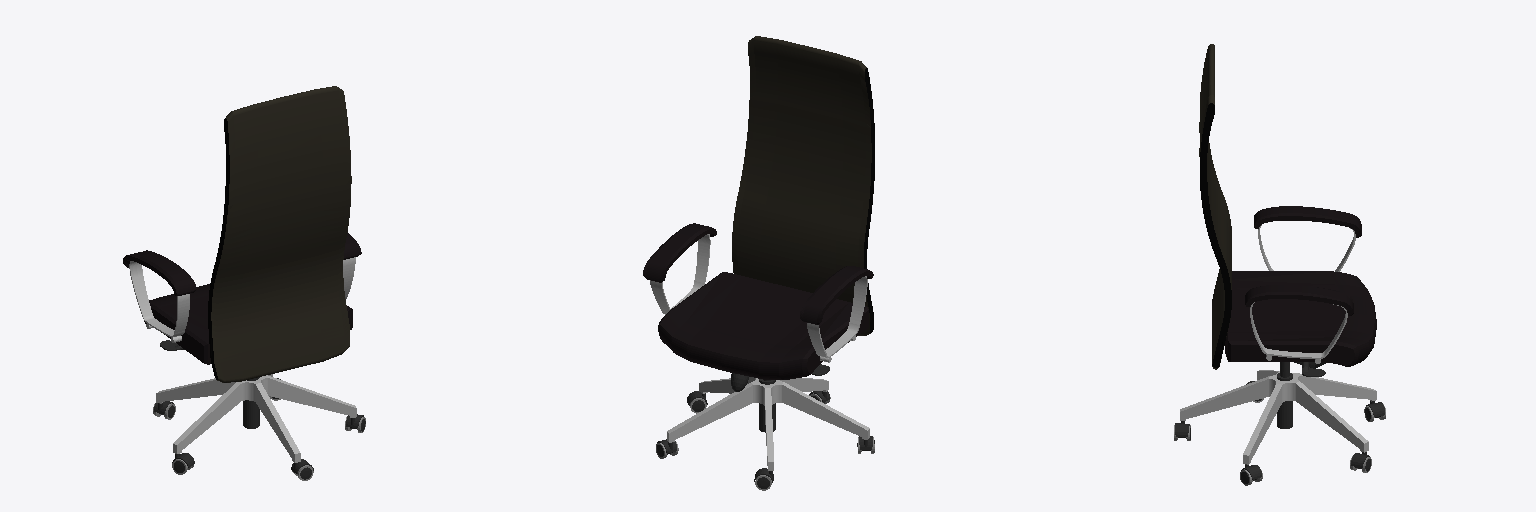
The picture shows the model from 3 angles: view 1: azimuth 30°, elevation 25°; view 2: azimuth 150°, elevation 25°; view 3: azimuth 270°, elevation 25°; orthographic projection.
Parts seen in each view (by area): view 1: Mesh1 Group1 Model, Mesh3 Group3 Model, Mesh6 Group6 Model, Mesh12 Group10 Armrest2 Model, Mesh13 Group11 Armrest2 Model; view 2: Mesh1 Group1 Model, Mesh6 Group6 Model, Mesh3 Group3 Model, Mesh9 Group9 Armrest1 Model, Mesh13 Group11 Armrest2 Model, Mesh12 Group10 Armrest2 Model, Mesh8 Group8 Armrest1 Model; view 3: Mesh6 Group6 Model, Mesh3 Group3 Model, Mesh1 Group1 Model, Mesh13 Group11 Armrest2 Model, Mesh9 Group9 Armrest1 Model, Mesh8 Group8 Armrest1 Model, Mesh2 Group2 Model.
Part boxes in pixels (x1,y1,x2,y2): Mesh1 Group1 Model: (208, 86, 351, 382); Mesh3 Group3 Model: (156, 374, 356, 462); Mesh6 Group6 Model: (144, 284, 352, 364); Mesh12 Group10 Armrest2 Model: (129, 261, 189, 337); Mesh13 Group11 Armrest2 Model: (123, 250, 196, 295); Mesh1 Group1 Model: (732, 36, 874, 335); Mesh6 Group6 Model: (658, 272, 868, 379); Mesh3 Group3 Model: (667, 377, 869, 470); Mesh9 Group9 Armrest1 Model: (643, 223, 716, 282); Mesh13 Group11 Armrest2 Model: (800, 266, 873, 324); Mesh12 Group10 Armrest2 Model: (807, 276, 867, 357); Mesh8 Group8 Armrest1 Model: (650, 234, 710, 314); Mesh6 Group6 Model: (1225, 271, 1376, 366); Mesh3 Group3 Model: (1180, 370, 1376, 464); Mesh1 Group1 Model: (1199, 44, 1231, 369); Mesh13 Group11 Armrest2 Model: (1254, 206, 1361, 237); Mesh9 Group9 Armrest1 Model: (1245, 285, 1353, 315); Mesh8 Group8 Armrest1 Model: (1250, 302, 1347, 358); Mesh2 Group2 Model: (1277, 362, 1292, 428).
Size of the model in its own units: 0.4541 by 0.8457 by 0.4397.